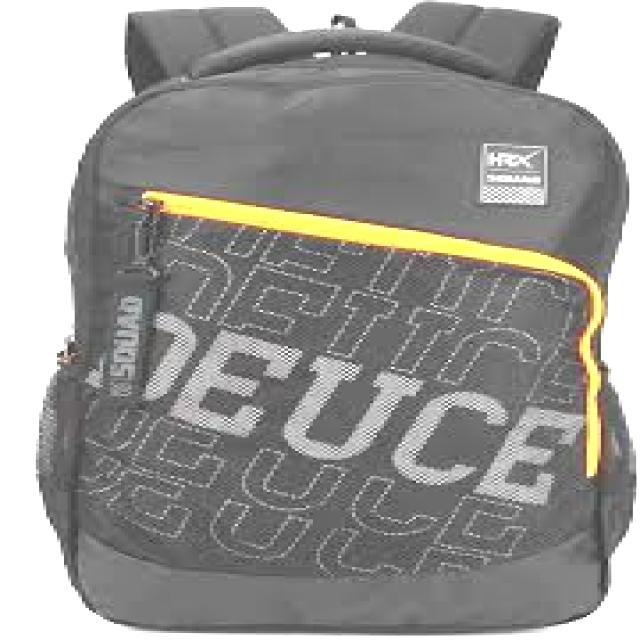backpack: (33, 1, 637, 634)
